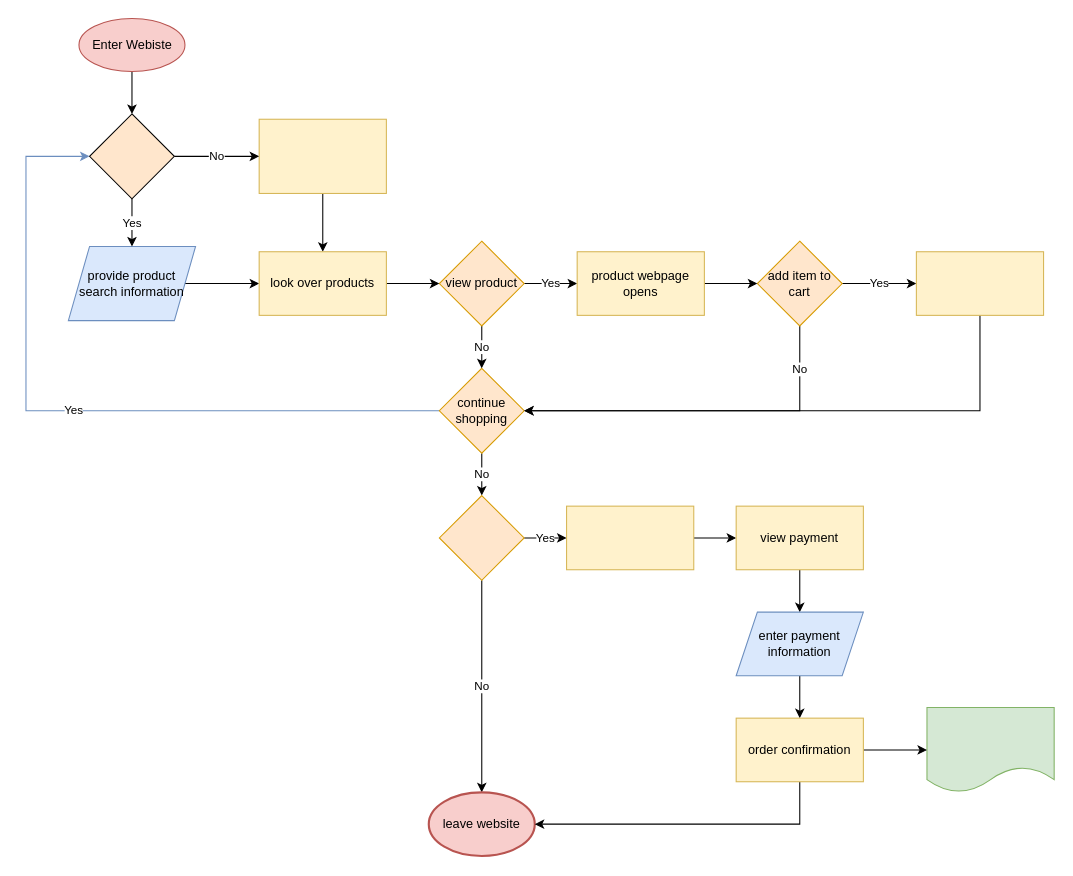
This 1073x876 diagram has some shape labels left out. Here are the shapes that lost their labels. From the top down, the centre of each, then its label:
At point (131, 156): "search for product".
At point (322, 155): "explore home page products".
At point (979, 283): "added to cart confirmation".
At point (481, 537): "checkout".
At point (630, 537): "view cart".
At point (990, 749): "order confirmation email".
